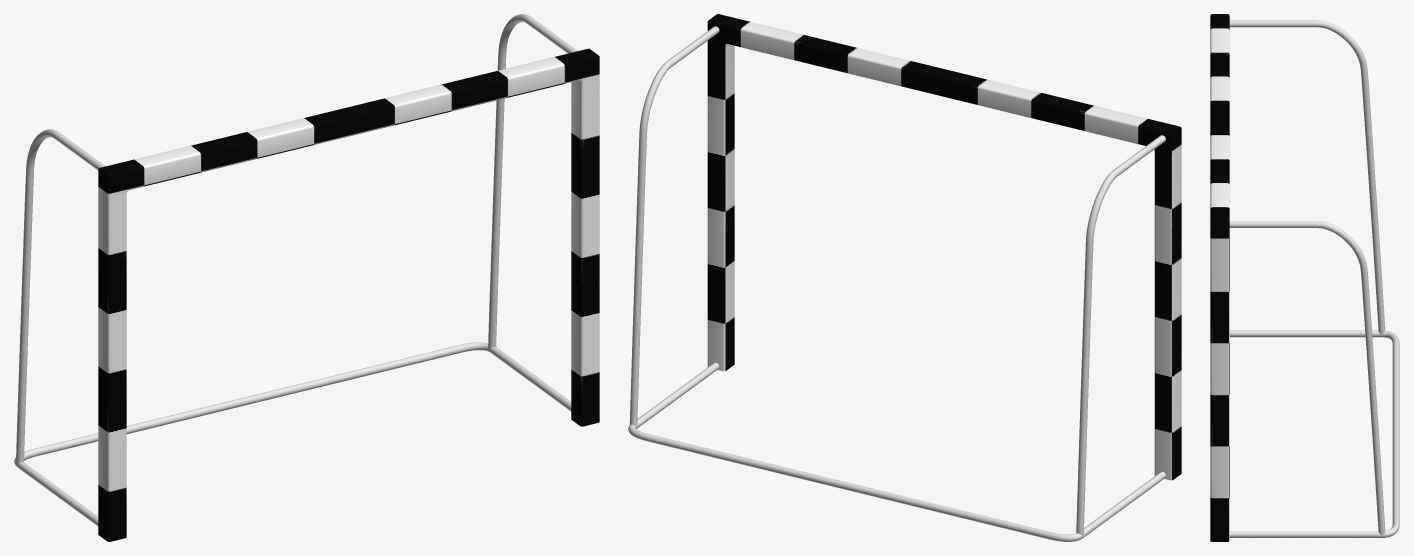
File: Soccergoal.glb
3 views of the same model, side by side, from view 1: azimuth 30°, elevation 25°; view 2: azimuth 150°, elevation 25°; view 3: azimuth 270°, elevation 25° (orthographic). The views are drawn at different scales.
Visible parts, largest first — view 1: Pole, pole.001; view 2: Pole, pole.001; view 3: Pole, pole.001.
Boxes of the visible parts, bbox=[...] form: Pole: bbox=[98, 48, 599, 541]; pole.001: bbox=[14, 14, 577, 526]; Pole: bbox=[707, 14, 1181, 480]; pole.001: bbox=[628, 26, 1165, 541]; Pole: bbox=[1210, 14, 1229, 541]; pole.001: bbox=[1229, 20, 1399, 537].
Size of the model in its own units: 2.8 by 2 by 1.07.
Materials: 2 (1 with a texture image).
